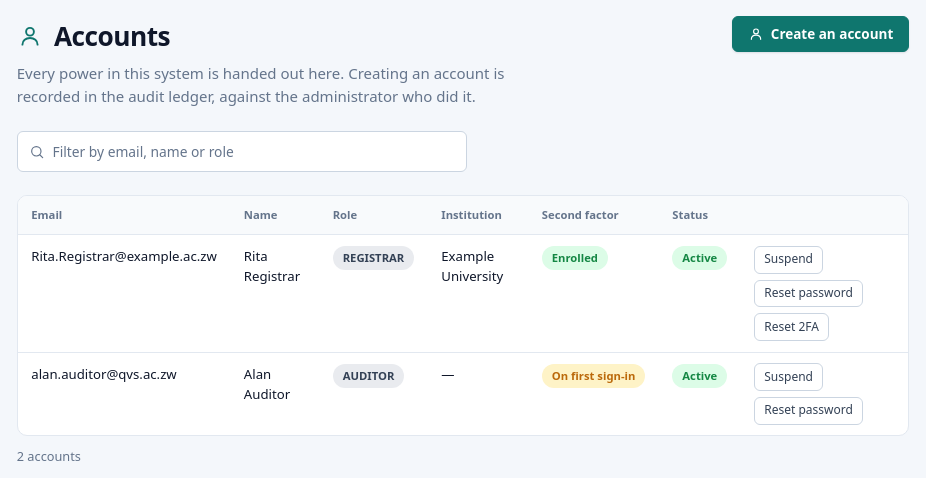
Test: UserListComponent › the filter box › distinguishes "nothing matches" from "there is nobody"
The image size is (926, 478).
Type "nobody-by-that-name" into the search field with placeholder "Filter by email, name or role" at (259, 152), box [52,132,466,171]
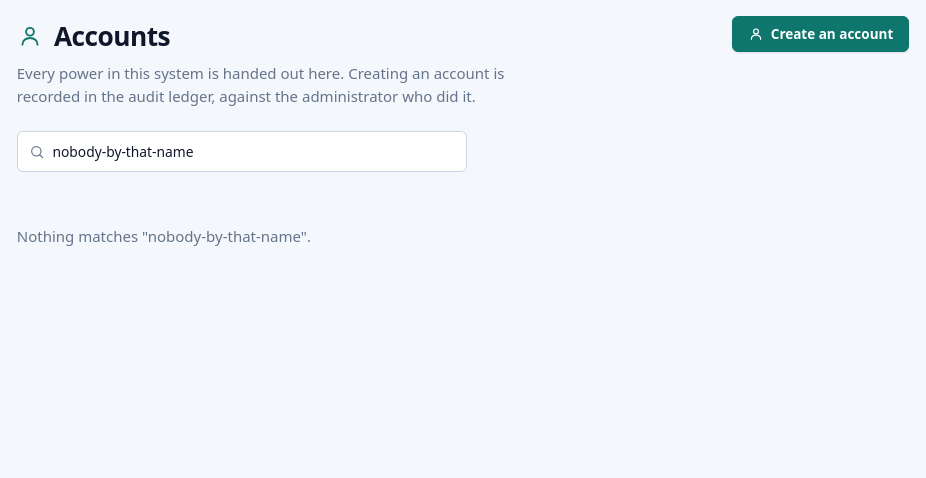
Expected: the text "Nothing matches" is shown, [17,226,311,246]
